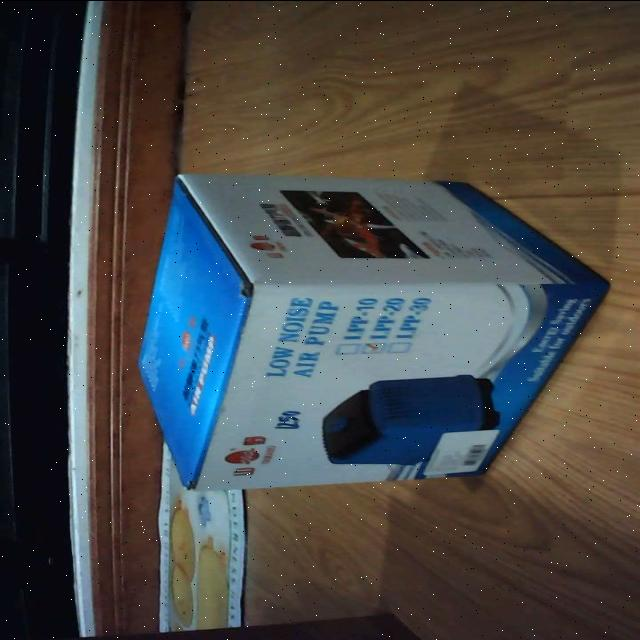YAMANO_LPP_20: (112, 164, 620, 490)
